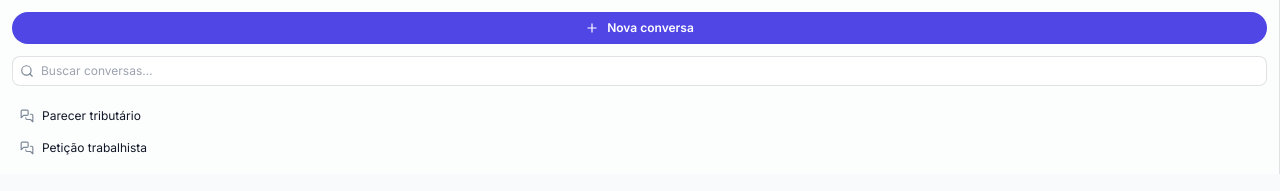
ConversationList › filters conversations by search when convo tools are on
Check: the button "Parecer tributário" is shown, box [42,108,1259,124]
Type "trabalhista" into the search field with placeholder "Buscar conversas…" at (640, 71), box [12,56,1267,86]
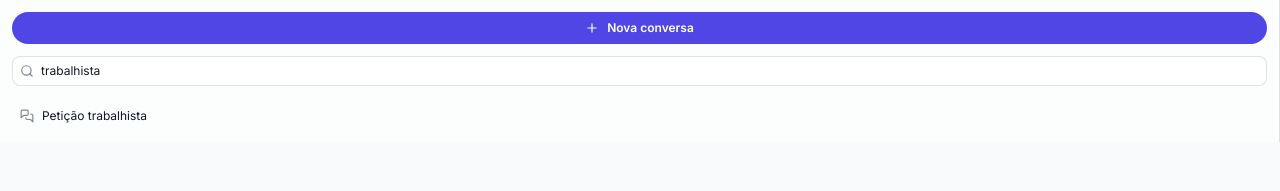
Check: the button "Petição trabalhista" is shown, box [42,108,1259,124]
Check: the button "Parecer tributário" is gone
